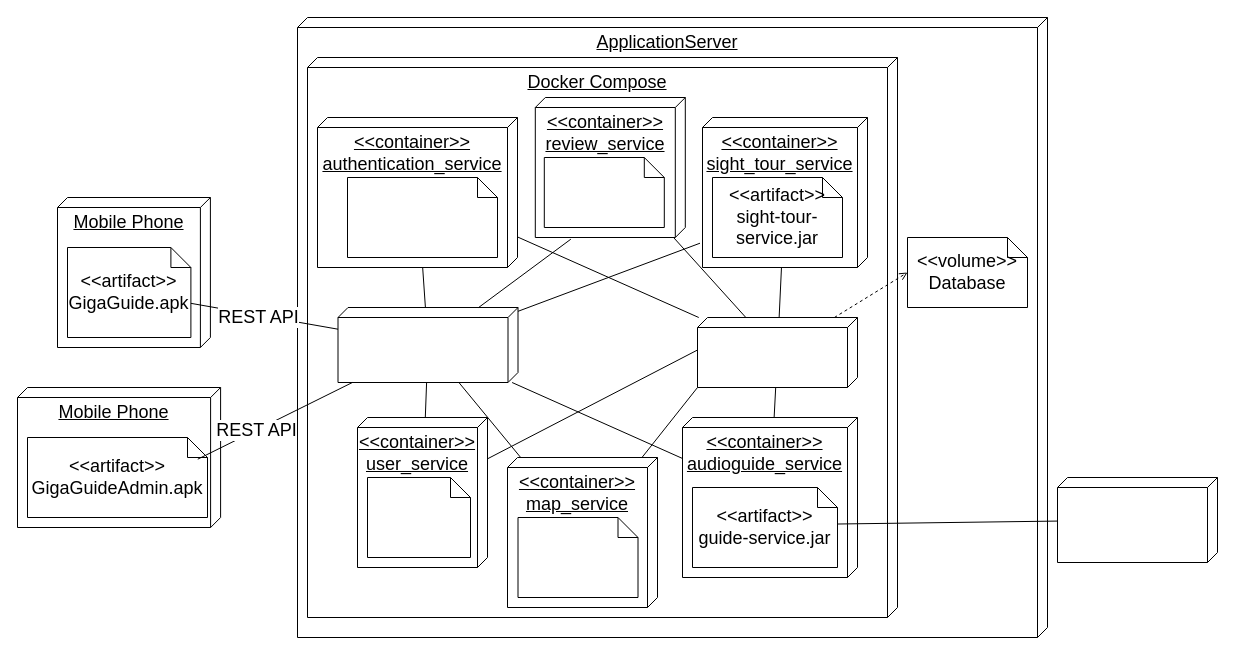
The diagram is 1235 pixels wide and 655 high, and some of its shapes have lost their labels. Each missing label, with the centre of its shape:
<<artifact>> authentication-service.jar: point (422, 217)
<<artifact>> map-service .jar: point (577, 557)
<<artifact>> review-service .jar: point (603, 192)
<<artifact>> user-service .jar: point (418, 517)
<<container>> api_gateway: point (427, 344)
<<container>> postgresql: point (777, 352)
<<Third-party API>> Yandex TTS API: point (1137, 519)
